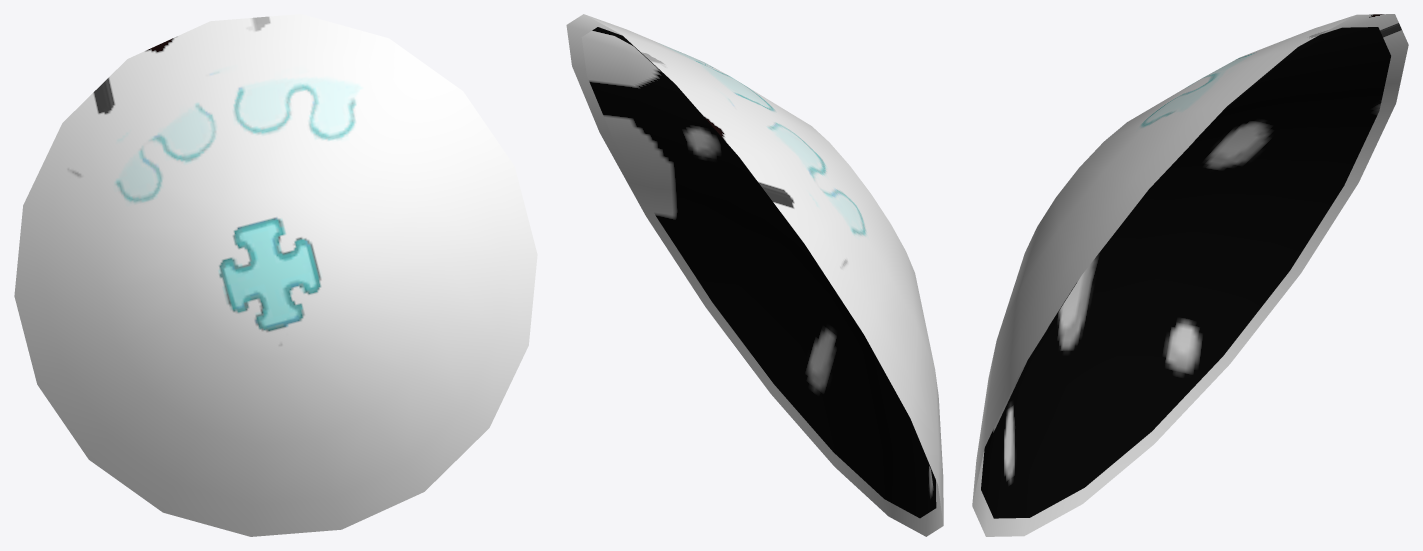
Rendered from fx_cookie0135_skill02_loop.fbx.
The picture shows the model from 3 angles, left to right: view 1: azimuth 30°, elevation 25°; view 2: azimuth 150°, elevation 25°; view 3: azimuth 270°, elevation 25°; orthographic projection. The views are drawn at different scales.
Parts seen in each view (by area): view 1: shield (3); view 2: Quad (7), shield (3); view 3: Quad (7), shield (3).
Part boxes in pixels (x1,y1,x2,y2): shield (3): (14, 14, 537, 536); Quad (7): (581, 27, 936, 518); shield (3): (566, 14, 943, 536); Quad (7): (981, 27, 1390, 518); shield (3): (972, 14, 1408, 536).
Size of the model in its own units: 445 by 466 by 341.
